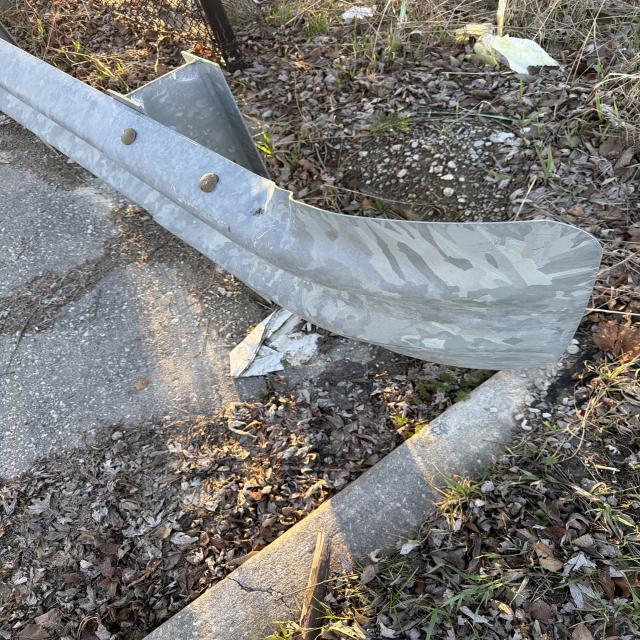Guard rail: (0, 64, 562, 339)
